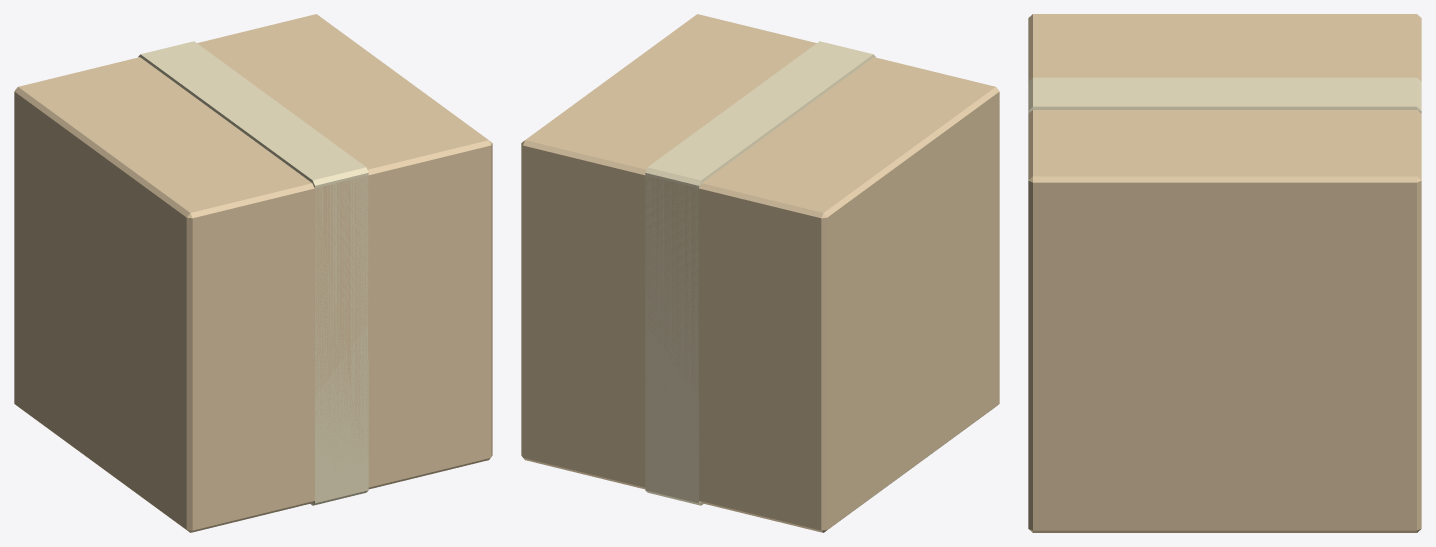
The model's file is BoxLarge.glb.
The picture shows the model from 3 angles, left to right: view 1: azimuth 30°, elevation 25°; view 2: azimuth 150°, elevation 25°; view 3: azimuth 270°, elevation 25°; orthographic projection. The views are drawn at different scales.
Parts seen in each view (by area): view 1: Box, Tape; view 2: Box, Tape; view 3: Box, Tape.
Part boxes in pixels (x1=…): Box: x1=14, y1=14, x2=492, y2=532; Tape: x1=138, y1=41, x2=368, y2=505; Box: x1=521, y1=14, x2=999, y2=532; Tape: x1=645, y1=41, x2=875, y2=505; Box: x1=1028, y1=14, x2=1421, y2=532; Tape: x1=1028, y1=77, x2=1421, y2=113.
Size of the model in its own units: 0.6 by 0.61 by 0.6.
